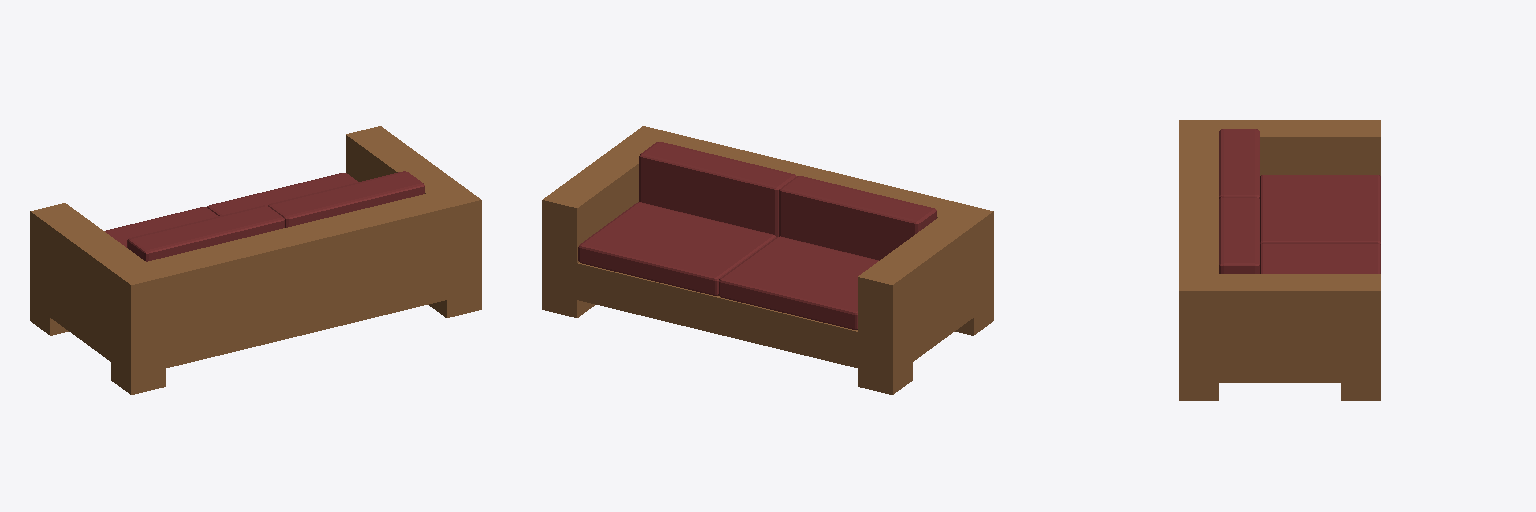
The model's file is sofa.obj.
3 views of the same model, side by side, from view 1: azimuth 30°, elevation 25°; view 2: azimuth 150°, elevation 25°; view 3: azimuth 270°, elevation 25° (orthographic).
Visible parts, largest first — view 1: sofa_mesh_Cube.001, back_cushion_right_mesh_Cube.004, back_cushion_left_mesh_Cube.005, cushion_left_mesh_Cube.002, cushion_right_mesh_Cube.003; view 2: sofa_mesh_Cube.001, cushion_left_mesh_Cube.002, back_cushion_left_mesh_Cube.005, cushion_right_mesh_Cube.003, back_cushion_right_mesh_Cube.004; view 3: sofa_mesh_Cube.001, cushion_right_mesh_Cube.003, cushion_left_mesh_Cube.002, back_cushion_left_mesh_Cube.005, back_cushion_right_mesh_Cube.004.
Boxes of the visible parts, box(x1,y1,x2,y2) form: sofa_mesh_Cube.001: box(30, 126, 481, 394); back_cushion_right_mesh_Cube.004: box(127, 205, 284, 261); back_cushion_left_mesh_Cube.005: box(268, 171, 424, 227); cushion_left_mesh_Cube.002: box(207, 173, 357, 215); cushion_right_mesh_Cube.003: box(105, 207, 217, 247); sofa_mesh_Cube.001: box(542, 126, 993, 394); cushion_left_mesh_Cube.002: box(578, 202, 775, 295); back_cushion_left_mesh_Cube.005: box(639, 142, 796, 236); cushion_right_mesh_Cube.003: box(719, 236, 878, 329); back_cushion_right_mesh_Cube.004: box(779, 176, 936, 260); sofa_mesh_Cube.001: box(1179, 120, 1380, 400); cushion_right_mesh_Cube.003: box(1260, 175, 1380, 244); cushion_left_mesh_Cube.002: box(1260, 243, 1380, 273); back_cushion_left_mesh_Cube.005: box(1219, 197, 1259, 273); back_cushion_right_mesh_Cube.004: box(1219, 129, 1259, 198).
Size of the model in its own units: 2 by 0.65 by 1.